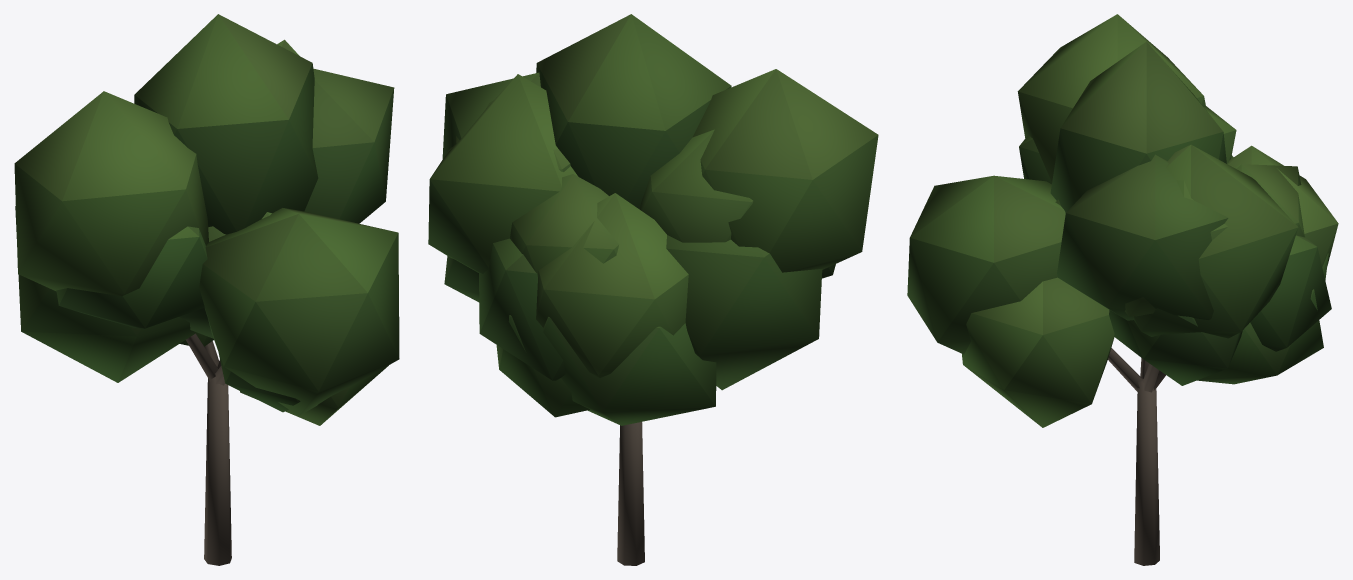
File: env_maple_t.glb
The picture shows the model from 3 angles, left to right: view 1: azimuth 30°, elevation 25°; view 2: azimuth 150°, elevation 25°; view 3: azimuth 270°, elevation 25°; orthographic projection. The views are drawn at different scales.
Visible parts, largest first — view 1: env_maple_t; view 2: env_maple_t; view 3: env_maple_t.
Boxes of the visible parts, left/top/right/bottom form: env_maple_t: left=14, top=14, right=399, bottom=565; env_maple_t: left=428, top=14, right=878, bottom=565; env_maple_t: left=907, top=14, right=1338, bottom=565.
Size of the model in its own units: 13.43 by 17.7 by 13.33.
